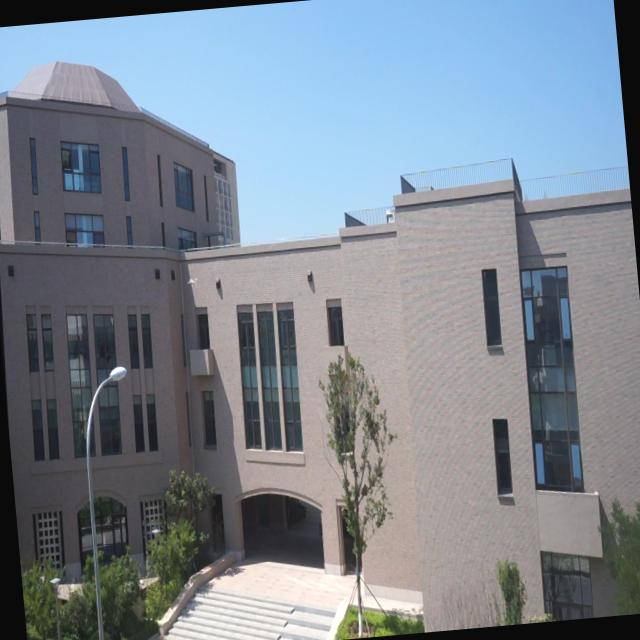drone: (184, 273, 199, 292)
